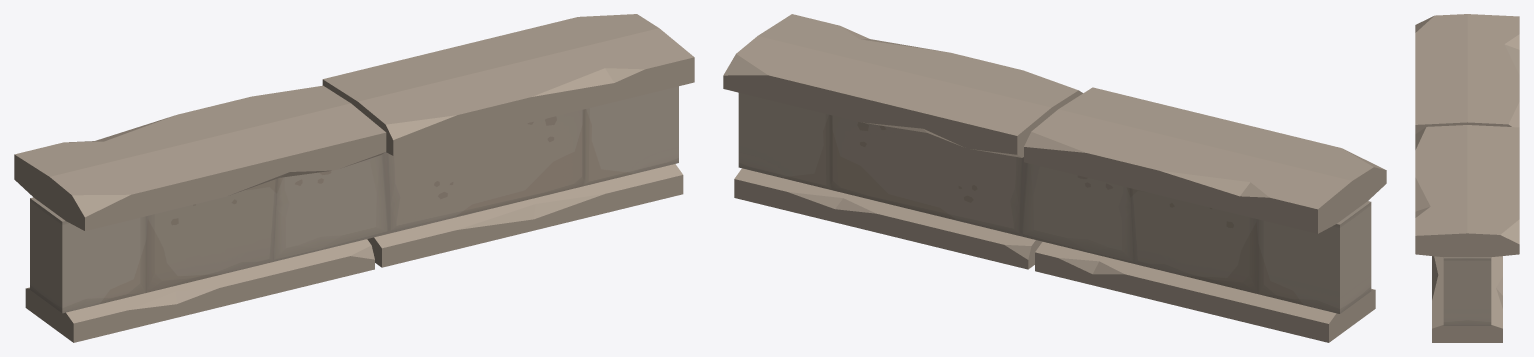
Rendered from SM_Bld_Temple_Balcony_02.fbx.
3 renders of one model, left to right at view 1: azimuth 30°, elevation 25°; view 2: azimuth 150°, elevation 25°; view 3: azimuth 270°, elevation 25°, orthographic. The views are drawn at different scales.
Visible parts, largest first — view 1: SM_Bld_Temple_Balcony_02; view 2: SM_Bld_Temple_Balcony_02; view 3: SM_Bld_Temple_Balcony_02.
Part boxes in pixels (<box>): SM_Bld_Temple_Balcony_02: <box>14,14,694,342</box>; SM_Bld_Temple_Balcony_02: <box>723,14,1386,342</box>; SM_Bld_Temple_Balcony_02: <box>1415,14,1519,342</box>.
Bounding box in the file's own units: 500 × 115 × 99.06.
